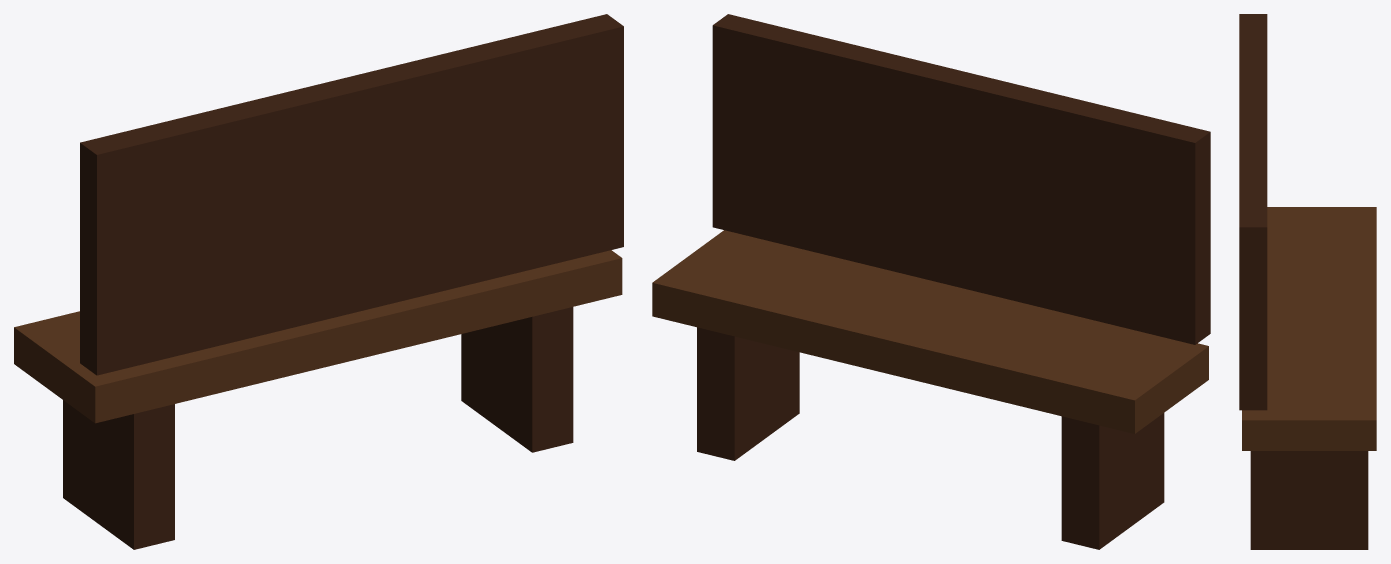
The model's file is banco.obj.
3 views of the same model, side by side, from view 1: azimuth 30°, elevation 25°; view 2: azimuth 150°, elevation 25°; view 3: azimuth 270°, elevation 25° (orthographic). The views are drawn at different scales.
Visible parts, largest first — view 1: respaldo, asiento, pata_izq, pata_der; view 2: respaldo, asiento, pata_izq, pata_der; view 3: asiento, pata_der, respaldo.
Boxes of the visible parts, x1,y1,x2,y2 form: respaldo: [80, 14, 623, 375]; asiento: [14, 250, 622, 423]; pata_izq: [63, 400, 174, 549]; pata_der: [461, 307, 573, 452]; respaldo: [712, 14, 1210, 344]; asiento: [652, 230, 1208, 433]; pata_izq: [1061, 413, 1164, 549]; pata_der: [697, 327, 799, 460]; asiento: [1242, 207, 1376, 450]; pata_der: [1250, 451, 1368, 549]; respaldo: [1239, 14, 1267, 410].
Bounding box in the file's own units: 1.8 × 1.34 × 0.49.
